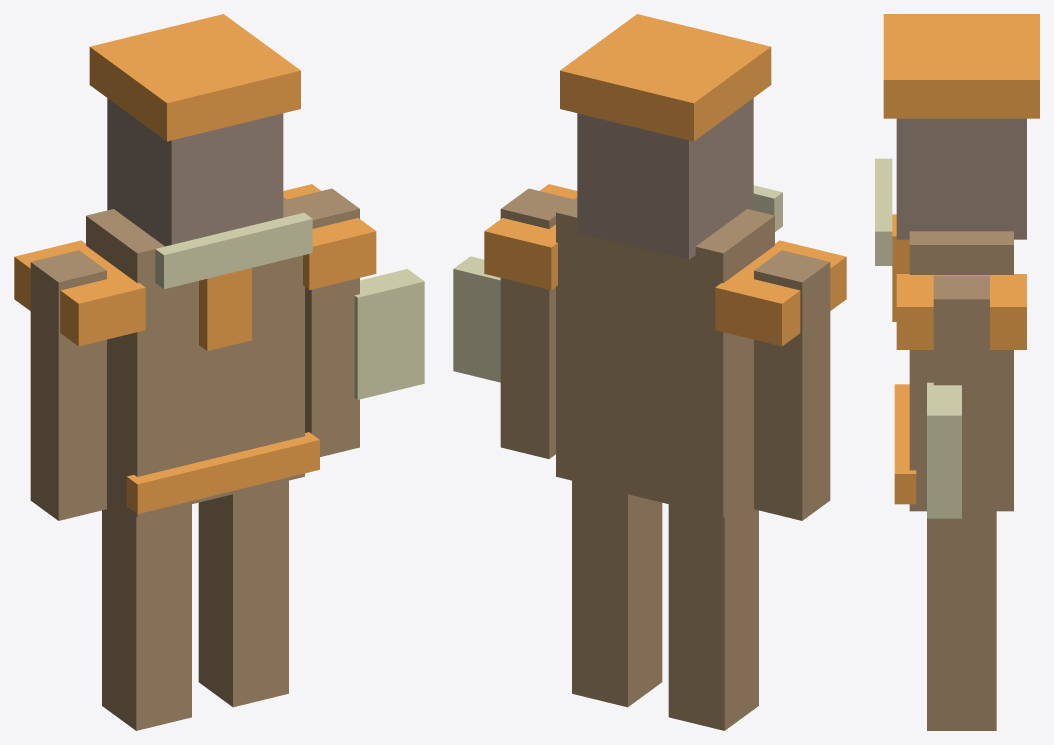
The model's file is 08_eryk_trenchmark_scout_at_ash.glb.
The picture shows the model from 3 angles, left to right: view 1: azimuth 30°, elevation 25°; view 2: azimuth 150°, elevation 25°; view 3: azimuth 270°, elevation 25°; orthographic projection.
Visible parts, largest first — view 1: Eryk Trenchmark, Scout at Ash; view 2: Eryk Trenchmark, Scout at Ash; view 3: Eryk Trenchmark, Scout at Ash.
Boxes of the visible parts, x1=… form: Eryk Trenchmark, Scout at Ash: x1=14, y1=14, x2=424, y2=730; Eryk Trenchmark, Scout at Ash: x1=453, y1=14, x2=846, y2=730; Eryk Trenchmark, Scout at Ash: x1=875, y1=14, x2=1039, y2=730.
Size of the model in its own units: 0.951 by 1.61 by 0.3707.
